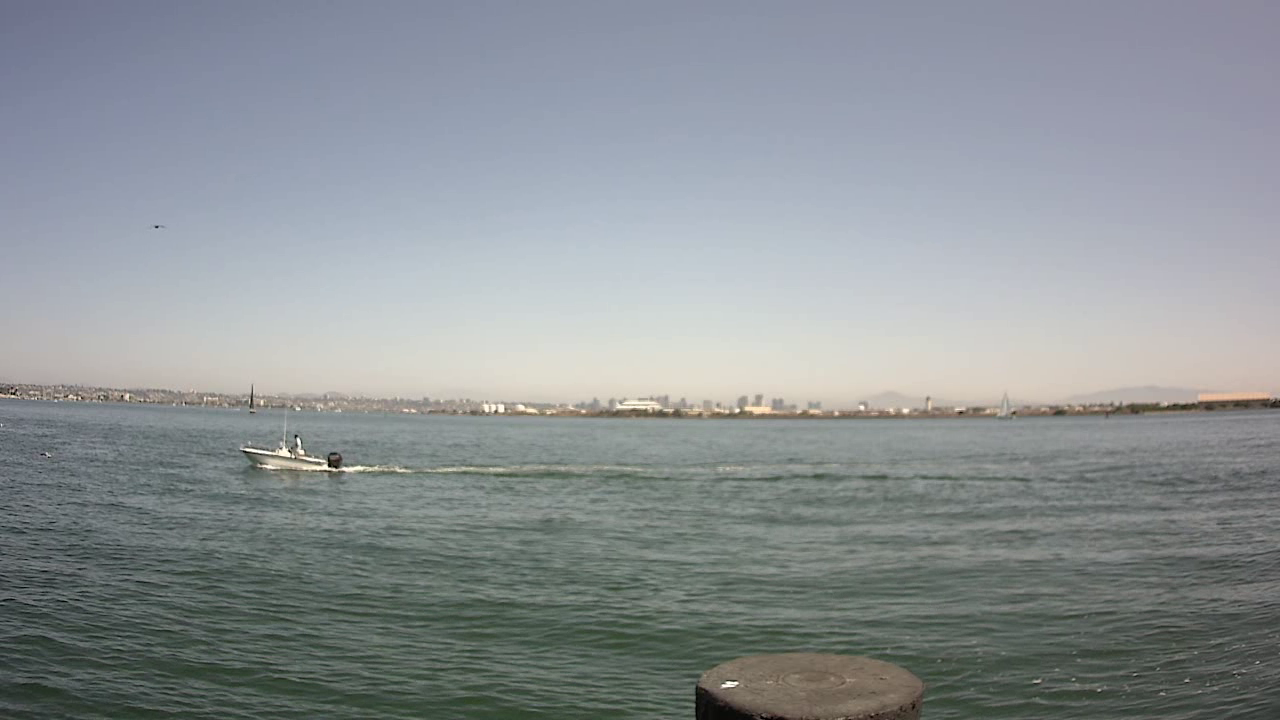target: (237, 411, 352, 481)
